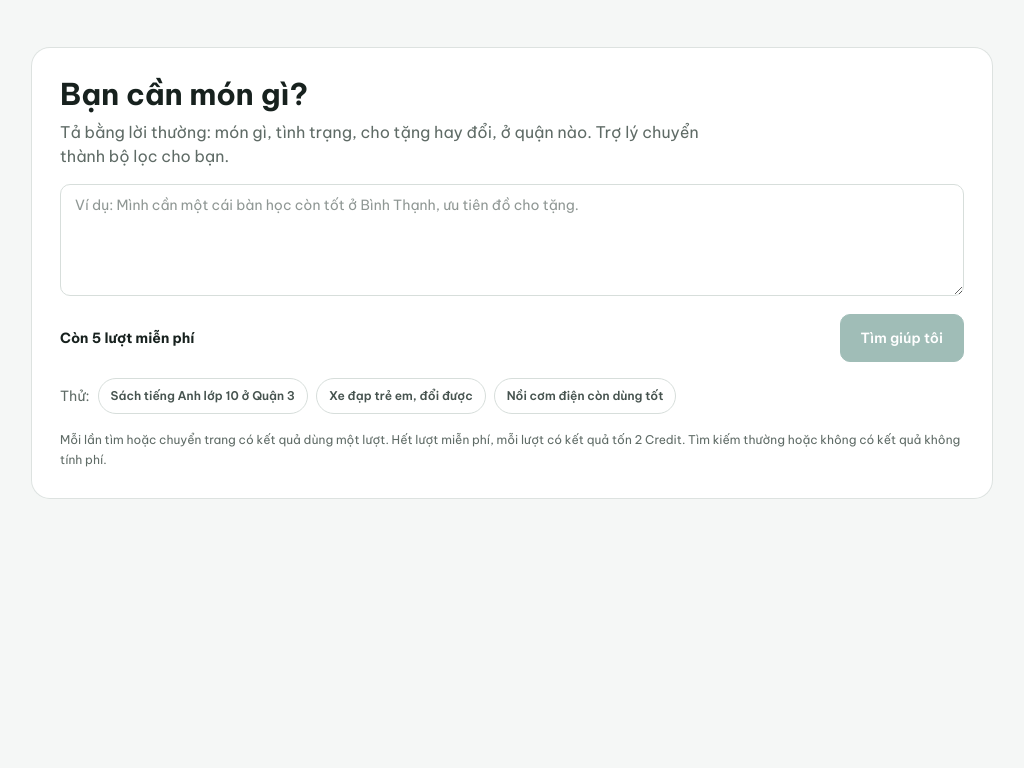
Test case: AI search quota › giữ nguyên quota khi Backend fallback sang tìm kiếm thường
expect the text "Còn 5 lượt miễn phí" is shown: met, box [60,329,194,347]
Type "Tìm sách cũ" into the text box named "Mô tả món đồ cần tìm" at (512, 240), box [60,184,964,296]
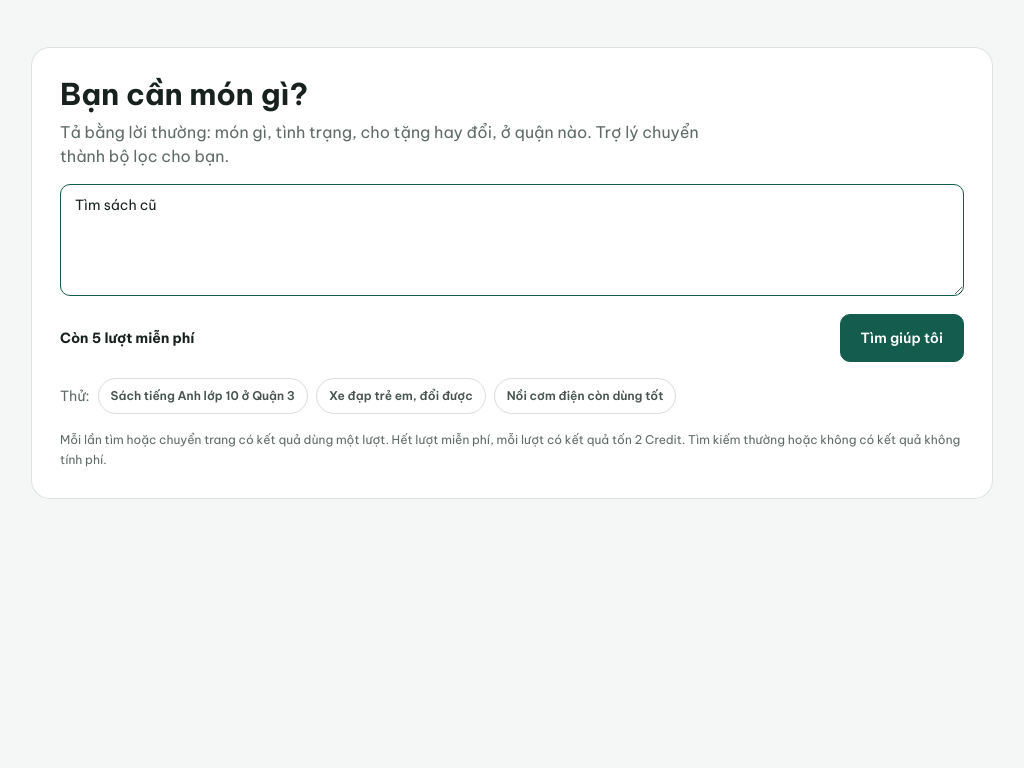
Click the button "Tìm giúp tôi" at (902, 338), box [840,314,964,362]
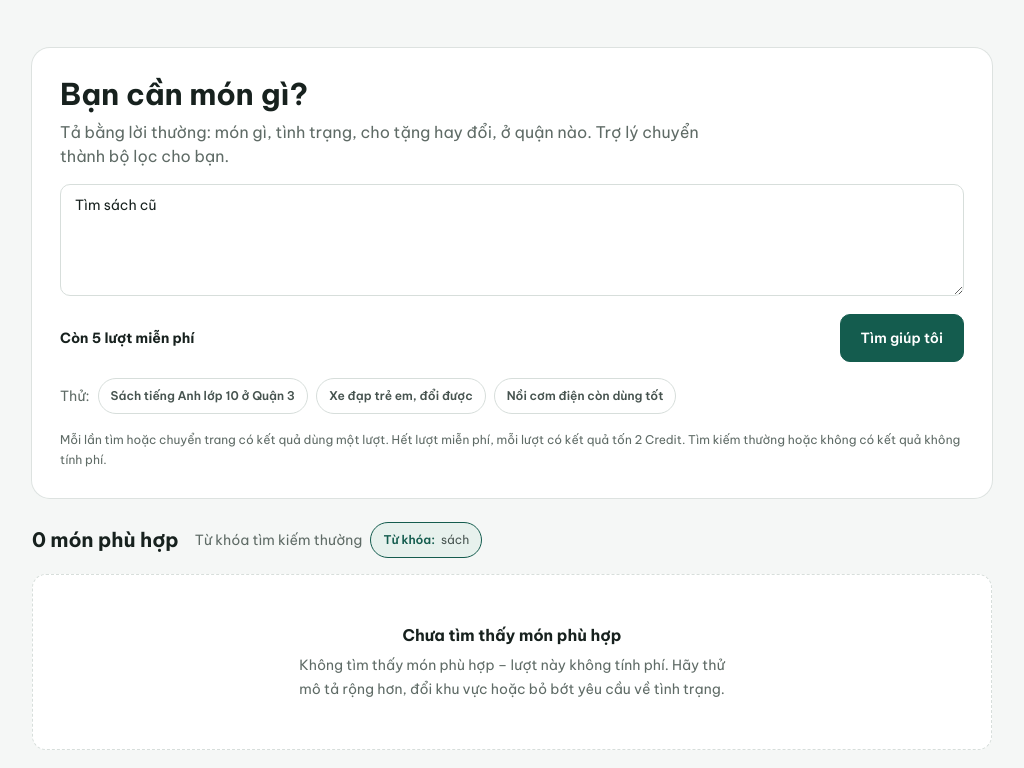
expect the text "Còn 5 lượt miễn phí" is shown: met, box [60,329,194,347]
expect the text "Từ khóa tìm kiếm thường" is shown: met, box [195,530,362,550]
